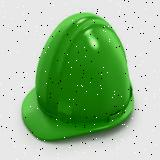Helmet: (21, 12, 134, 142)
